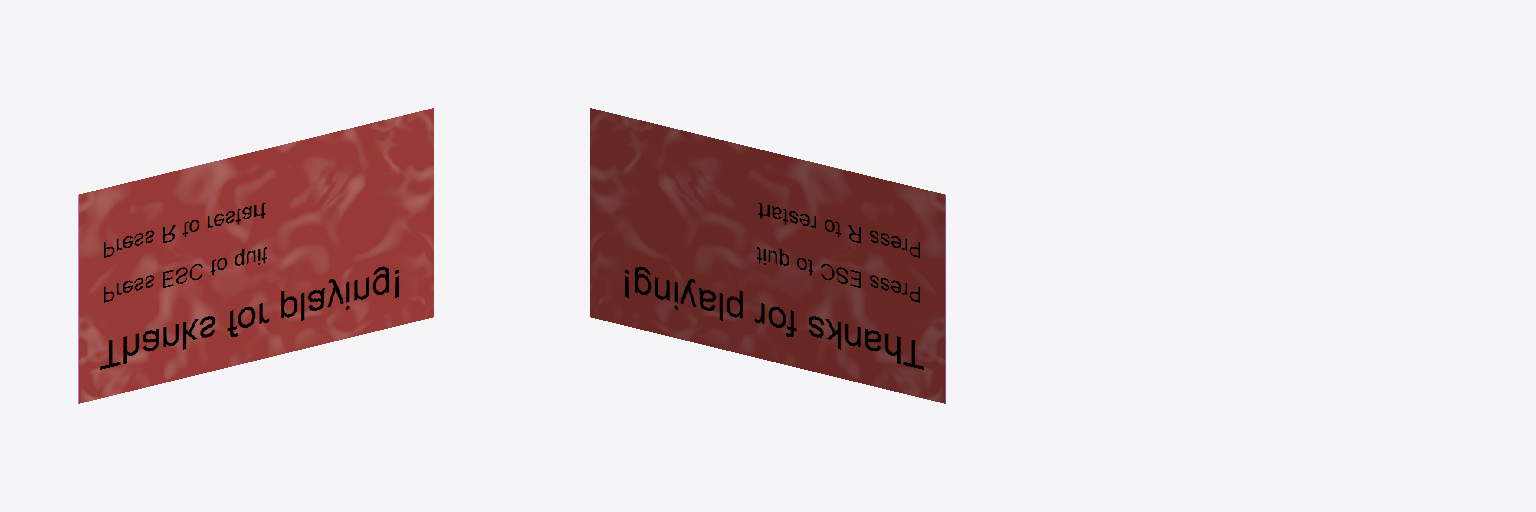
3 views of the same model, side by side, from view 1: azimuth 30°, elevation 25°; view 2: azimuth 150°, elevation 25°; view 3: azimuth 270°, elevation 25° (orthographic).
Visible parts, largest first — view 1: EndScreen_Plane; view 2: EndScreen_Plane; view 3: none.
Part boxes in pixels (bbox=[...]): EndScreen_Plane: bbox=[78, 108, 433, 403]; EndScreen_Plane: bbox=[590, 108, 945, 403].
Bounding box in the file's own units: 3.56 × 2 × 0.
1 materials, 1 textured.